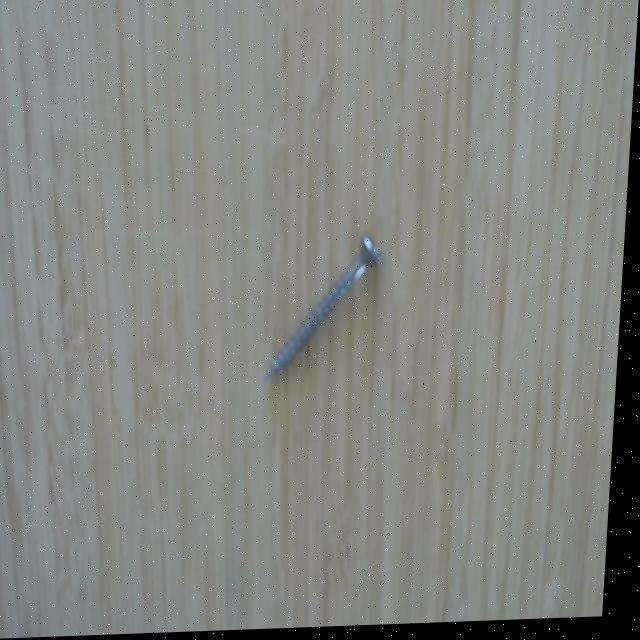Black screw: (270, 232, 391, 385)
